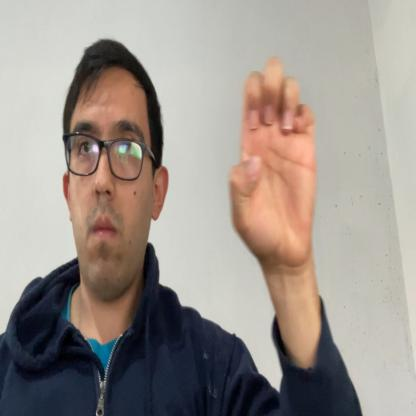E: (228, 54, 316, 272)
